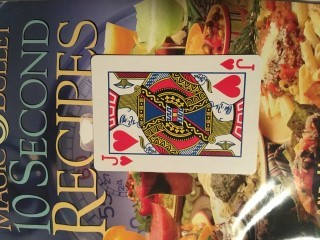JackOfHearts: (90, 54, 261, 175)
